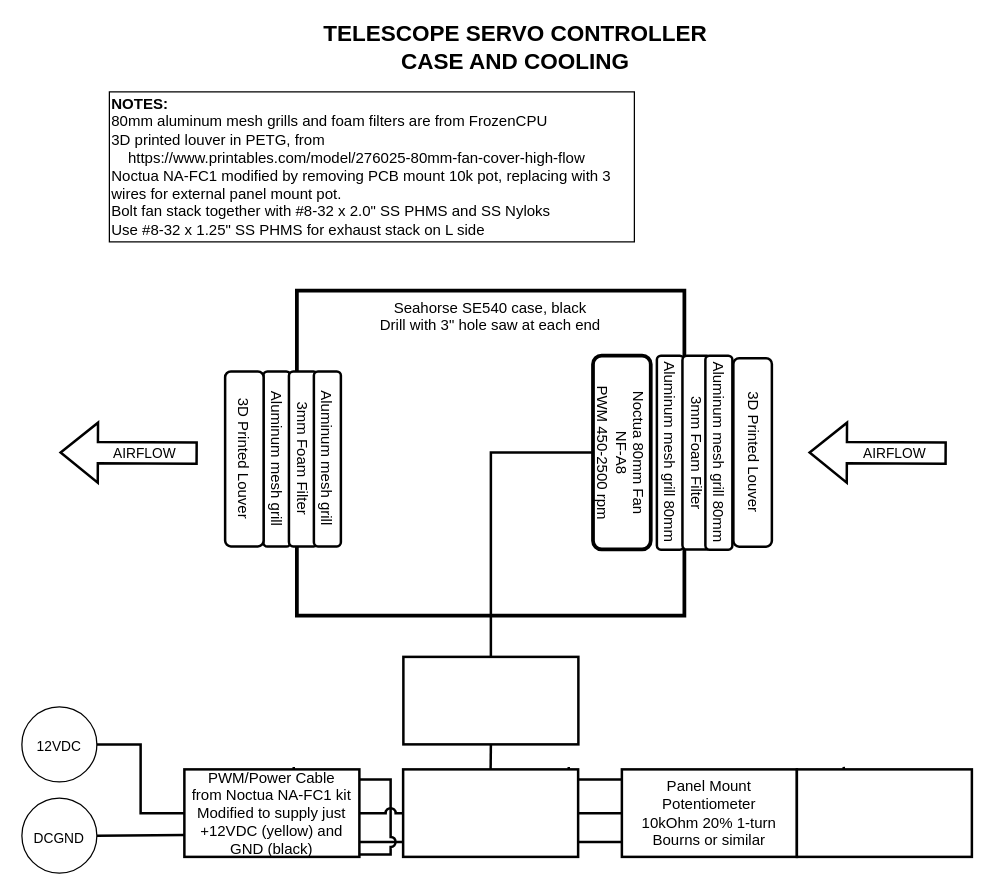
Image size: 995x895. Some labels were removed from this diagram. The shapes that lost their labels are listed below. From the top down, each one's centre as x and y in pixels, then its label:
At point 490,700: "PWM Fan Cable from Noctua NA-FC1 kit unmodified".
At point 490,813: "PWM Fan Speed Ctrl Noctua NA-FC1 Modified for remote pot".
At point 883,813: "Guitar Knob or whatever".
